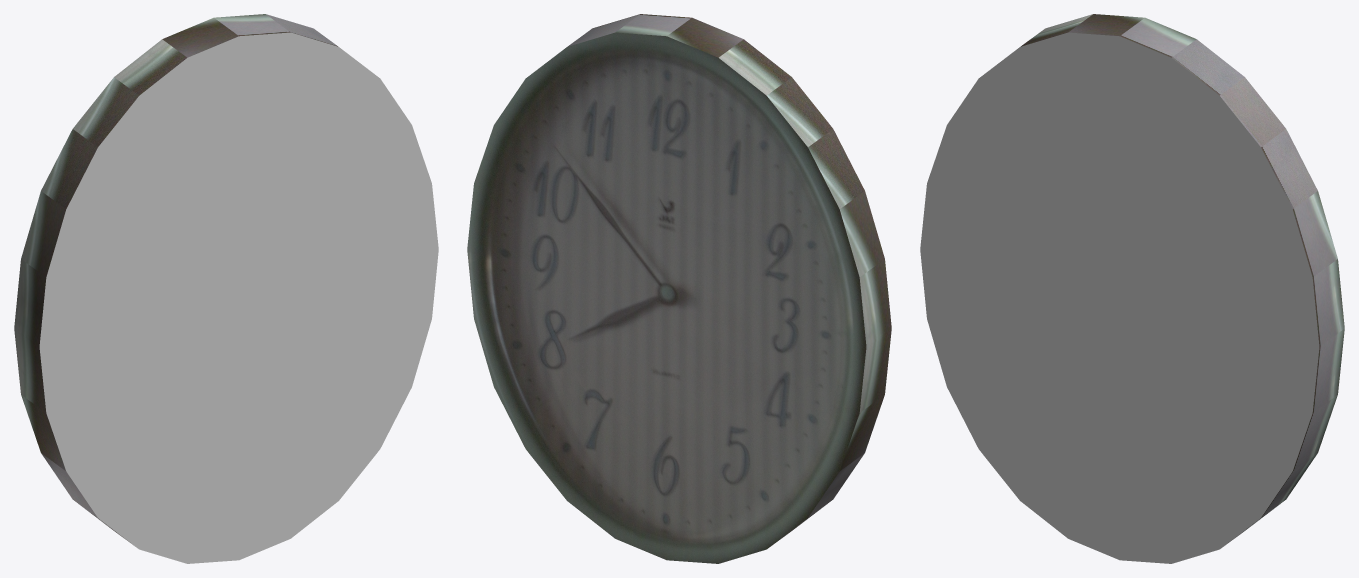
3 renders of one model, left to right at view 1: azimuth 30°, elevation 25°; view 2: azimuth 150°, elevation 25°; view 3: azimuth 330°, elevation 25°, orthographic.
Visible parts, largest first — view 1: mesh1_mesh1-geometry_1, mesh1_mesh1-geometry; view 2: mesh1_mesh1-geometry; view 3: mesh1_mesh1-geometry_1, mesh1_mesh1-geometry.
Boxes of the visible parts, <box> form: mesh1_mesh1-geometry_1: <box>39,32,438,563</box>; mesh1_mesh1-geometry: <box>14,14,337,545</box>; mesh1_mesh1-geometry: <box>467,14,891,563</box>; mesh1_mesh1-geometry_1: <box>920,32,1319,563</box>; mesh1_mesh1-geometry: <box>1021,14,1344,545</box>.
Bounding box in the file's own units: 0.6219 × 0.7801 × 0.0683.
2 materials, 1 textured.
